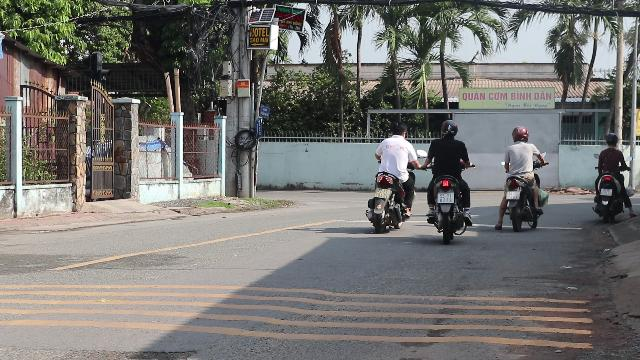helmet: (439, 119, 458, 137), (510, 126, 530, 142)
licenseplate: (375, 188, 391, 198), (438, 193, 454, 203), (506, 192, 520, 200)
motorcyclist: (422, 118, 474, 242), (365, 120, 417, 232), (494, 126, 548, 231)
nohelmet: (389, 121, 406, 138)
